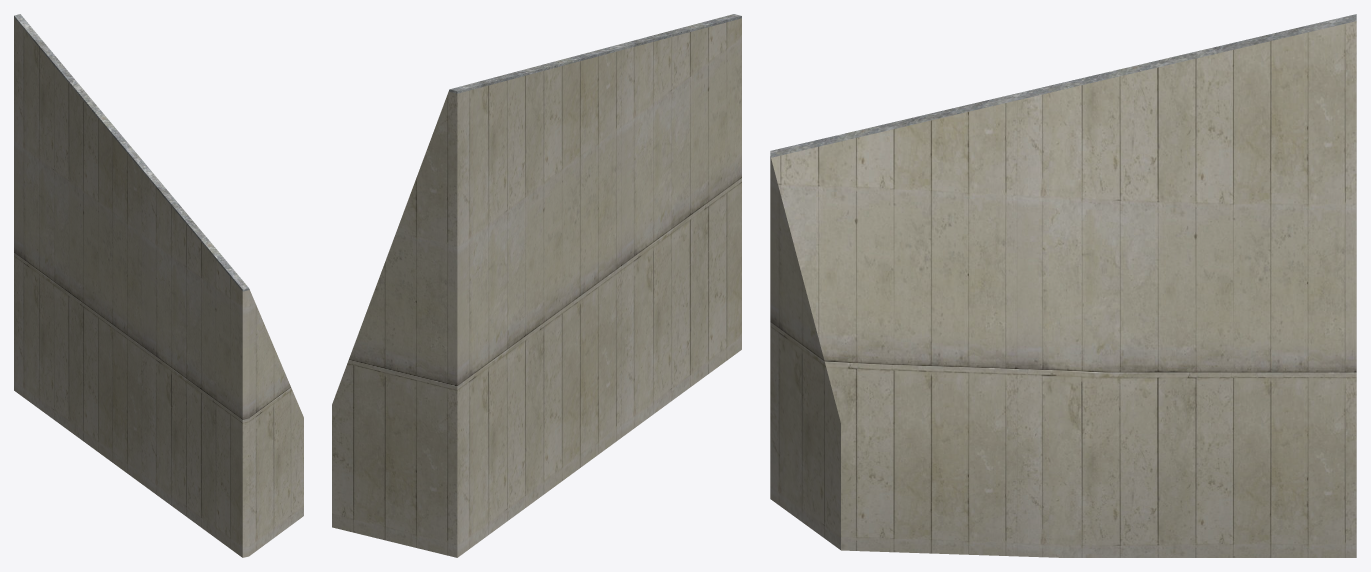
The model's file is norimen_b2l.fbx.
The picture shows the model from 3 angles, left to right: view 1: azimuth 30°, elevation 25°; view 2: azimuth 150°, elevation 25°; view 3: azimuth 270°, elevation 25°; orthographic projection. The views are drawn at different scales.
Visible parts, largest first — view 1: norimen_b2l; view 2: norimen_b2l; view 3: norimen_b2l.
Boxes of the visible parts, x1,y1,x2,y2 form: norimen_b2l: (14, 14, 303, 557); norimen_b2l: (332, 14, 741, 557); norimen_b2l: (770, 14, 1356, 557).
Bounding box in the file's own units: 534 × 1900 × 2100.
